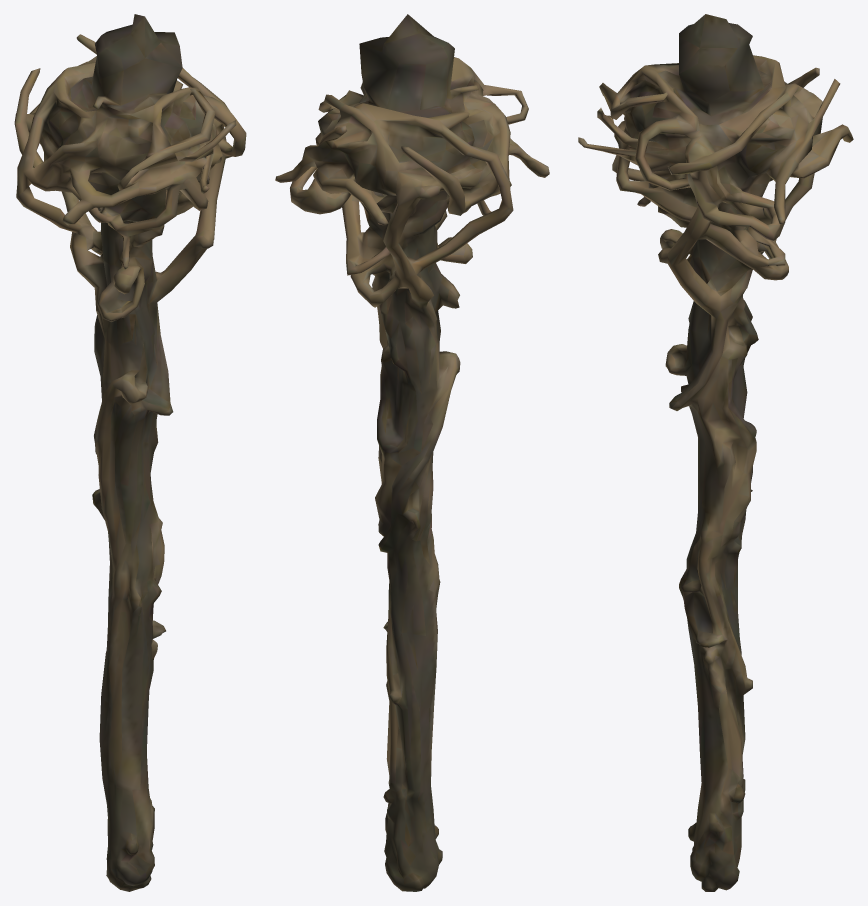
The model's file is staff.glb.
The picture shows the model from 3 angles, left to right: view 1: azimuth 30°, elevation 25°; view 2: azimuth 150°, elevation 25°; view 3: azimuth 270°, elevation 25°; orthographic projection.
Visible parts, largest first — view 1: base_model_path; view 2: base_model_path; view 3: base_model_path.
Part boxes in pixels (bbox=[...]): base_model_path: bbox=[14, 14, 246, 891]; base_model_path: bbox=[275, 14, 549, 891]; base_model_path: bbox=[578, 14, 853, 891].
Size of the model in its own units: 0.2543 by 0.9995 by 0.2836.
Materials: 1 (1 with a texture image).
